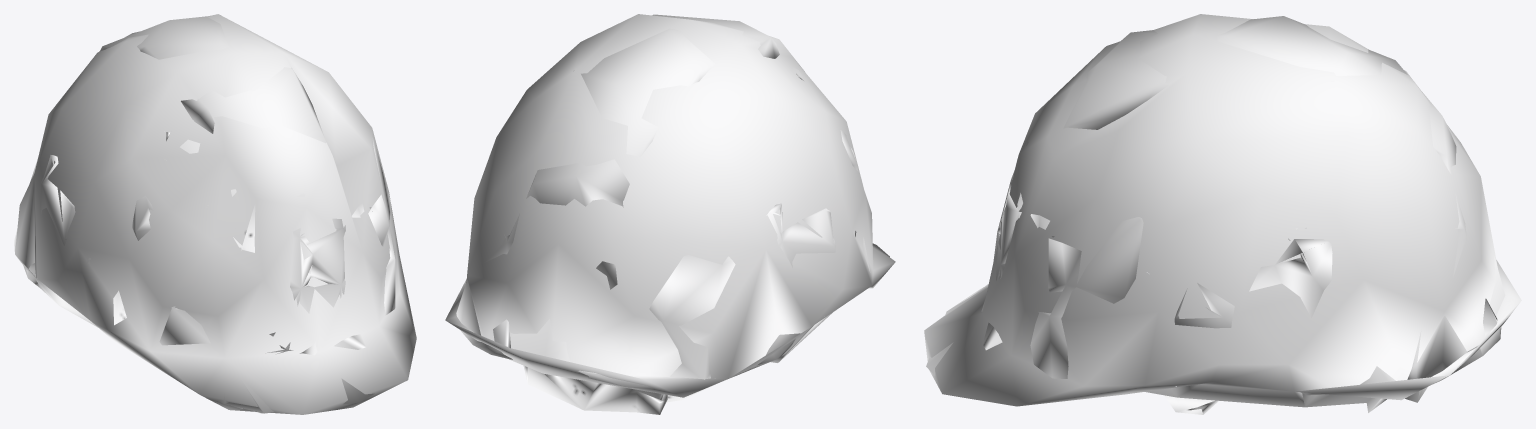
Rendered from hat-helmet.glb.
The picture shows the model from 3 angles, left to right: view 1: azimuth 30°, elevation 25°; view 2: azimuth 150°, elevation 25°; view 3: azimuth 270°, elevation 25°; orthographic projection. The views are drawn at different scales.
Parts seen in each view (by area): view 1: Body; view 2: Body; view 3: Body.
Boxes of the visible parts, x1,y1,x2,y2 form: Body: [14, 14, 416, 414]; Body: [445, 14, 895, 414]; Body: [924, 14, 1521, 414].
Size of the model in its own units: 0.7254 by 0.638 by 0.9874.
1 material, 1 textured.
